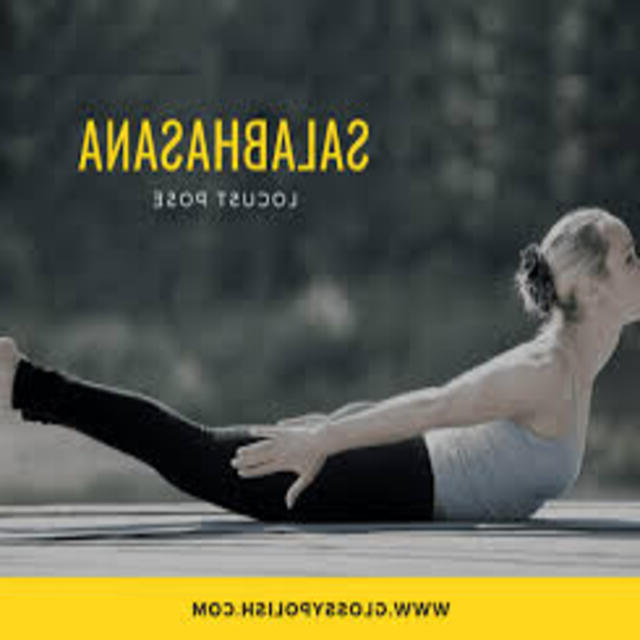Locust_Pose: (2, 206, 640, 534)
